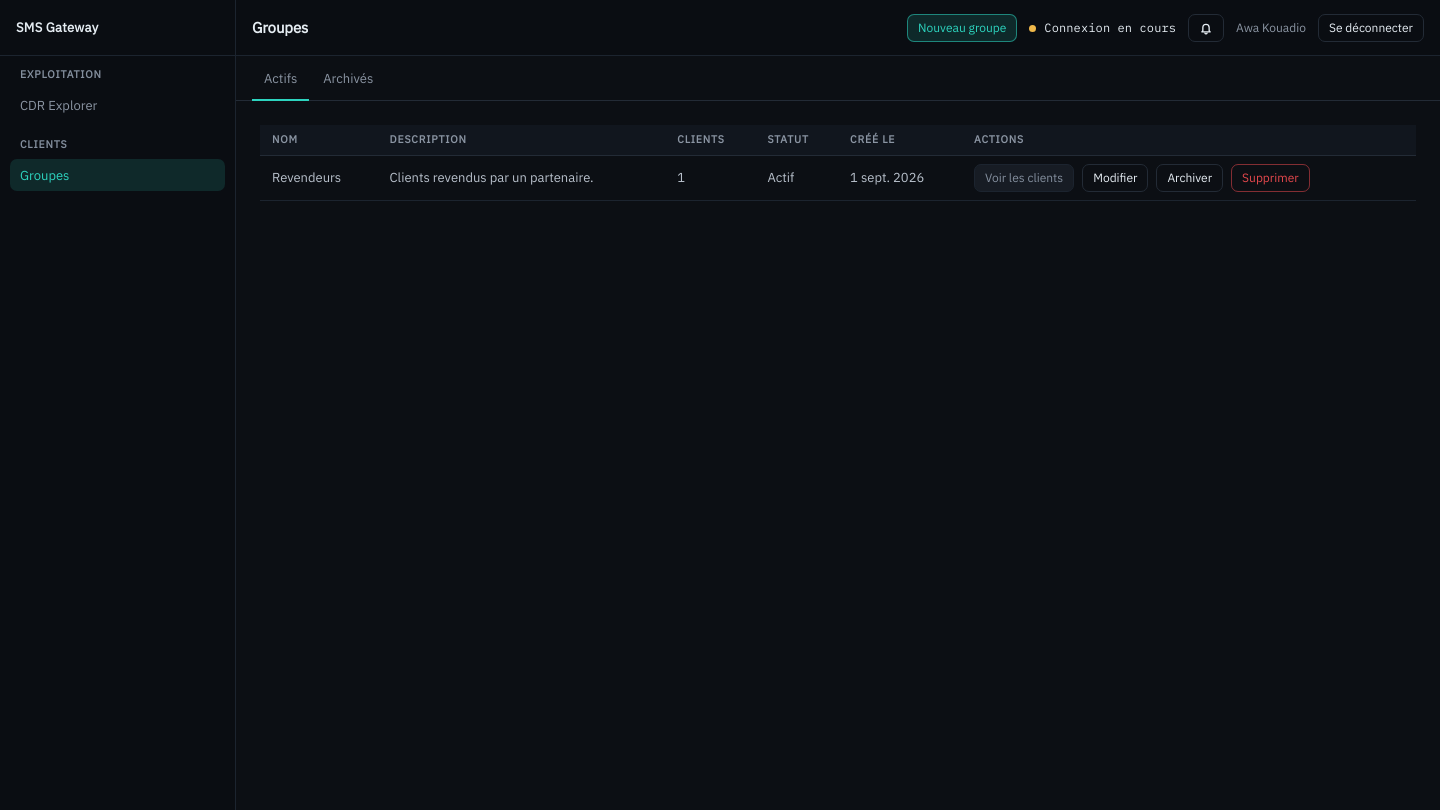
Scenario: the groups screen › says why an archive was refused, and keeps the group where it was
This screenshot has width=1440, height=810.
Click the button "Archiver".
click(1190, 178)  # box [1156,164,1223,192]
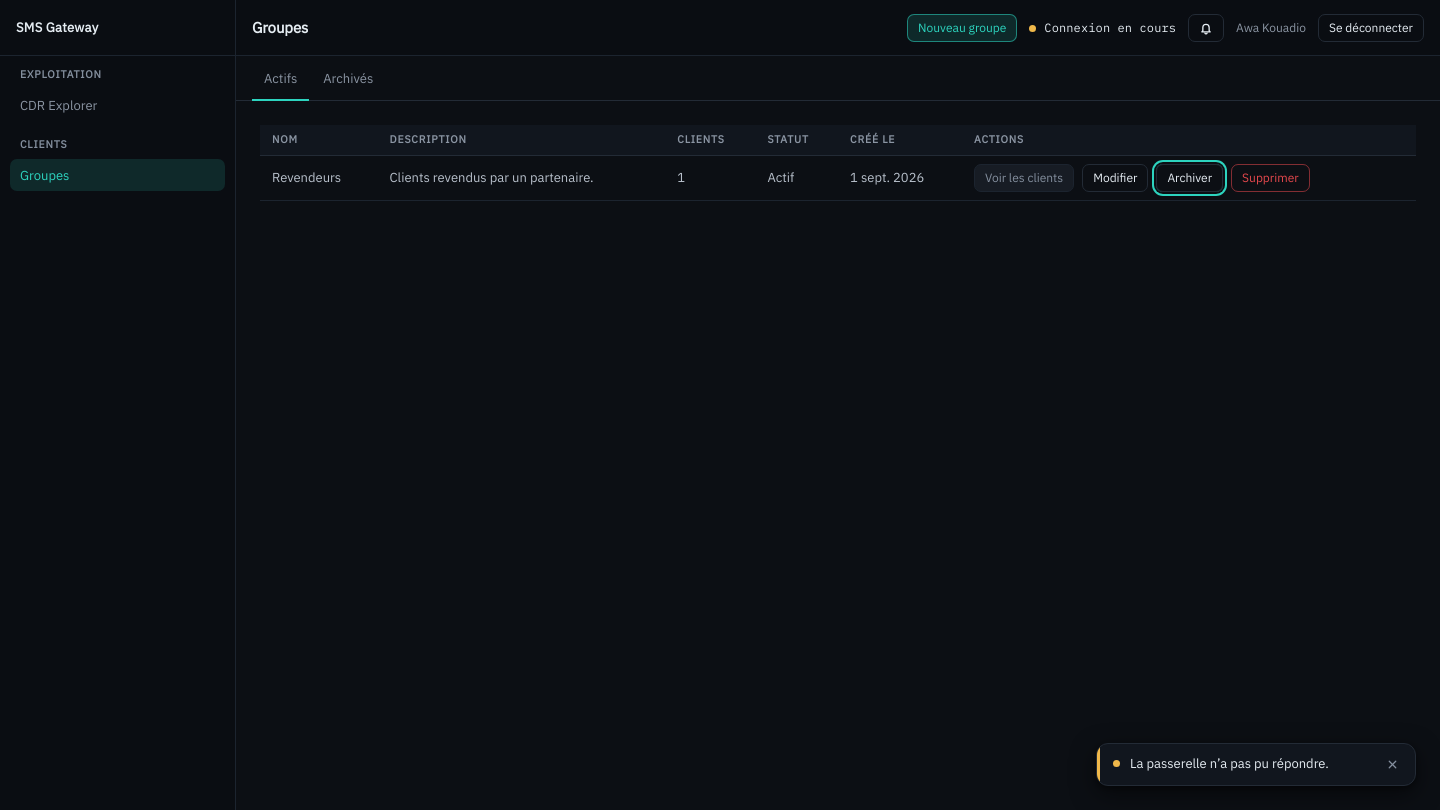
expect the heading "La passerelle n’a pas pu répondre." is shown: met, box [1130,754,1329,774]
